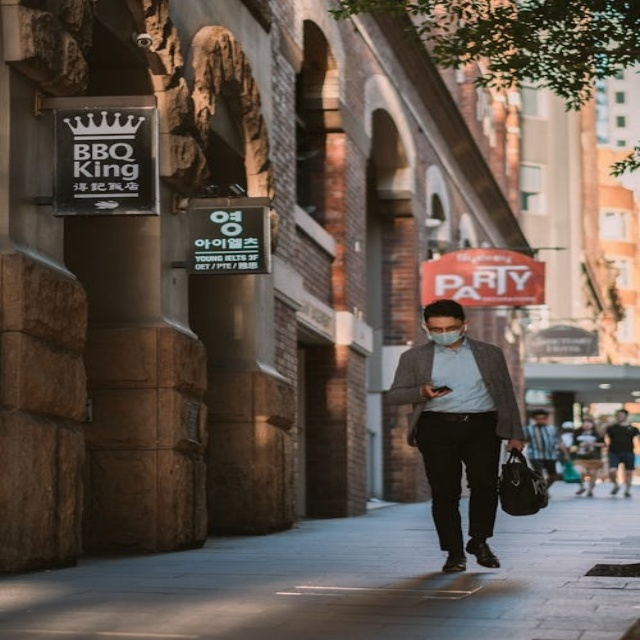Gafas: (426, 323, 463, 334)
Mascara: (428, 325, 465, 345)
Sin_gafas: (427, 324, 464, 335)
Sin_guantes: (419, 382, 452, 399), (506, 439, 525, 454)
